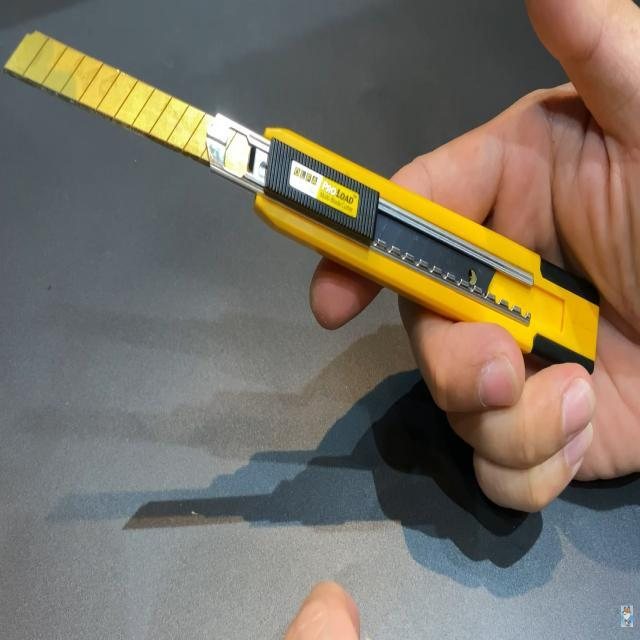cutter: (1, 0, 640, 528)
